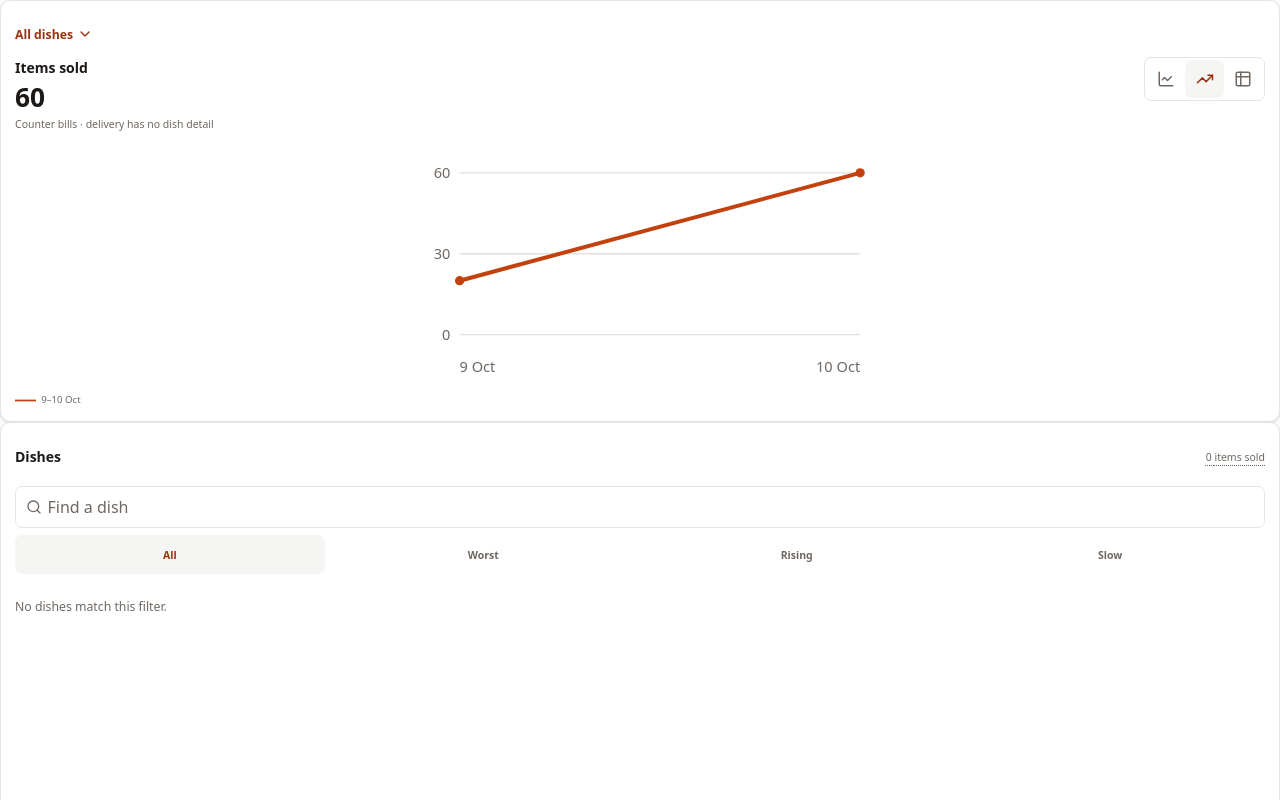
a trend read as a running total › draws items sold as a running total on the Items page
Press Home in the icon "0 30 60 9 Oct 10 Oct", box [15,141,1265,393]
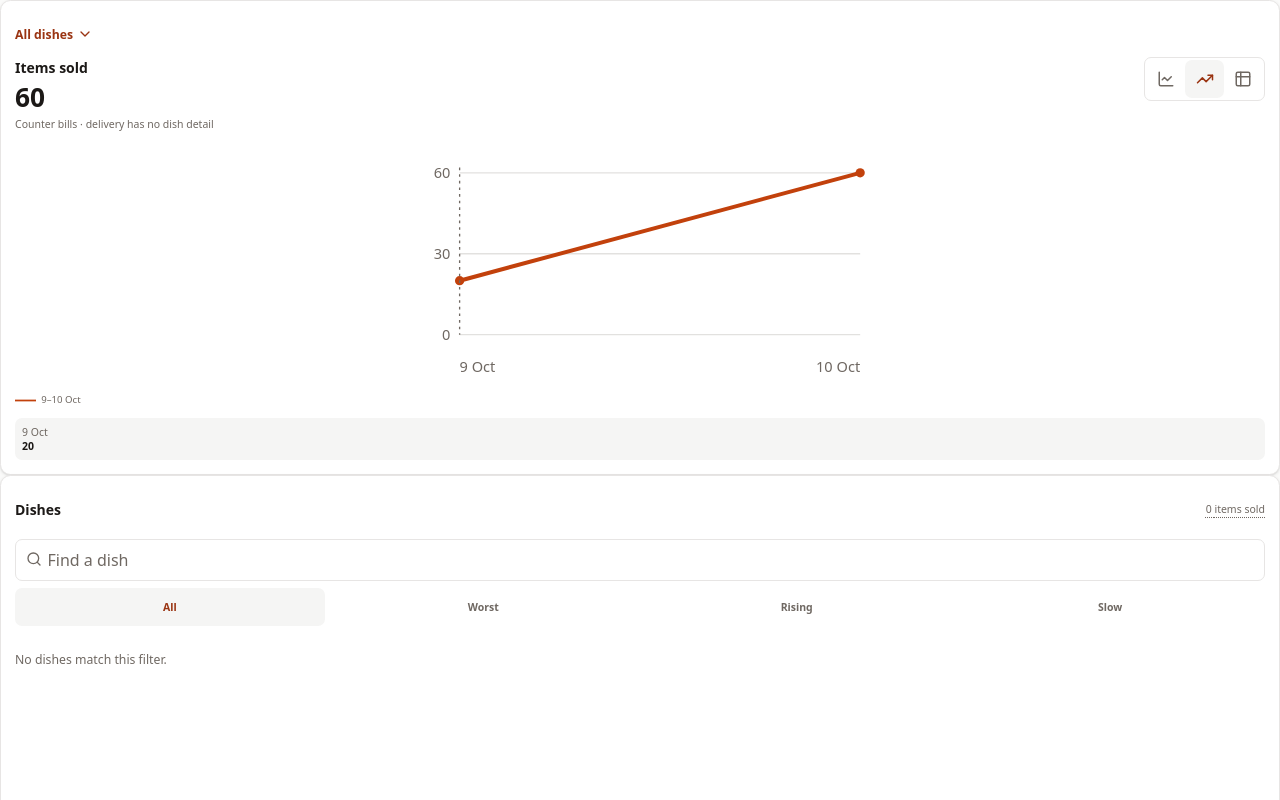
expect the message reads "9 Oct 20": met, box [15,418,1265,460]
Press End in the icon "0 30 60 9 Oct 10 Oct", box [15,141,1265,393]
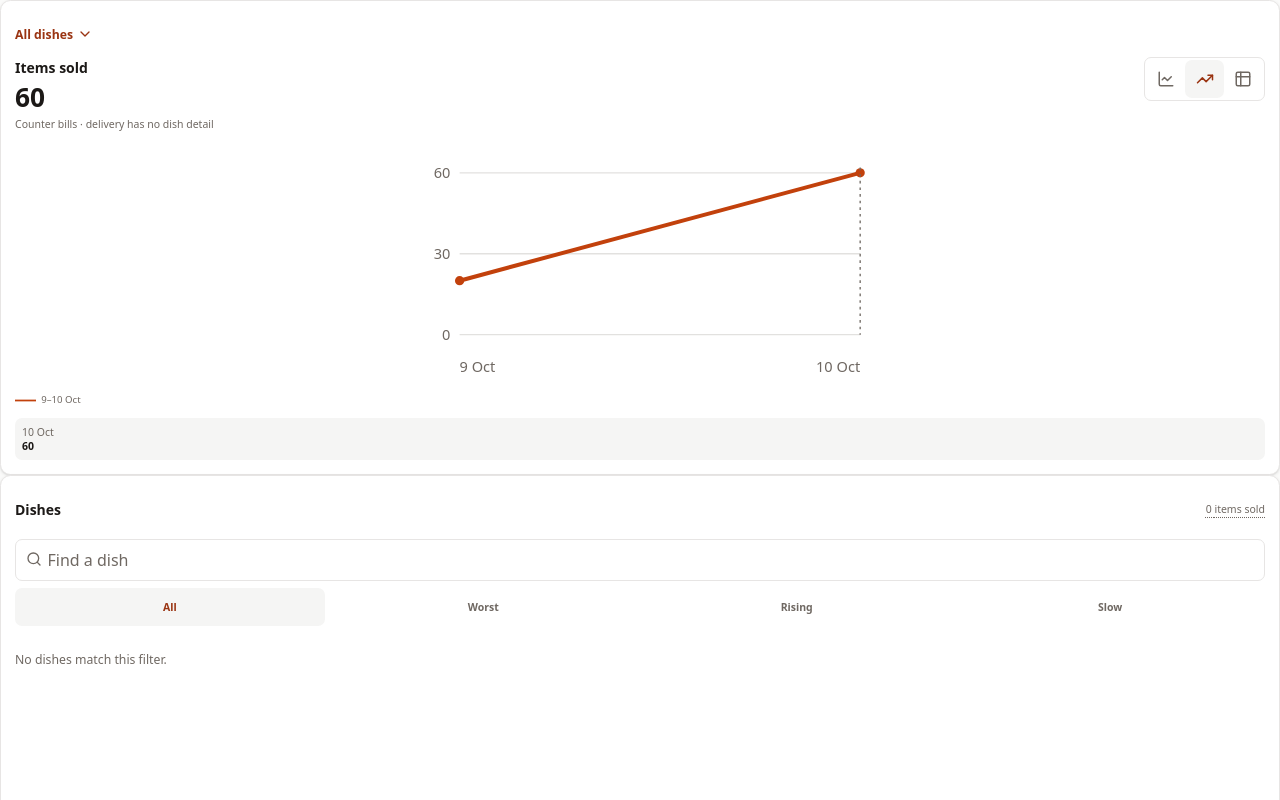
expect the text with test id "items-trend-value" reads "60": met, box [15,78,45,114]
expect the message reads "10 Oct 60": met, box [15,418,1265,460]
Click the button named "Table" at (1243, 79), box [1224,60,1262,98]
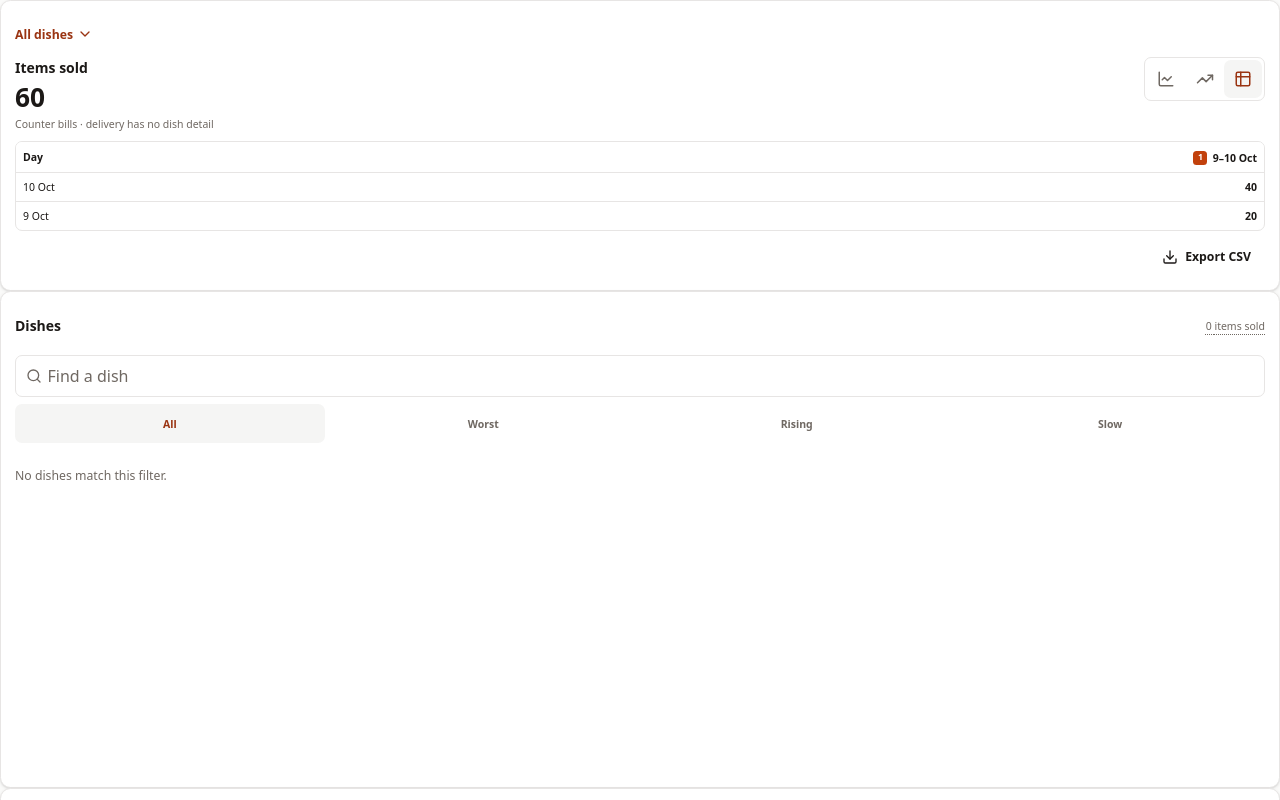
expect the row "10 Oct 40" is shown: met, box [16,172,1264,201]
